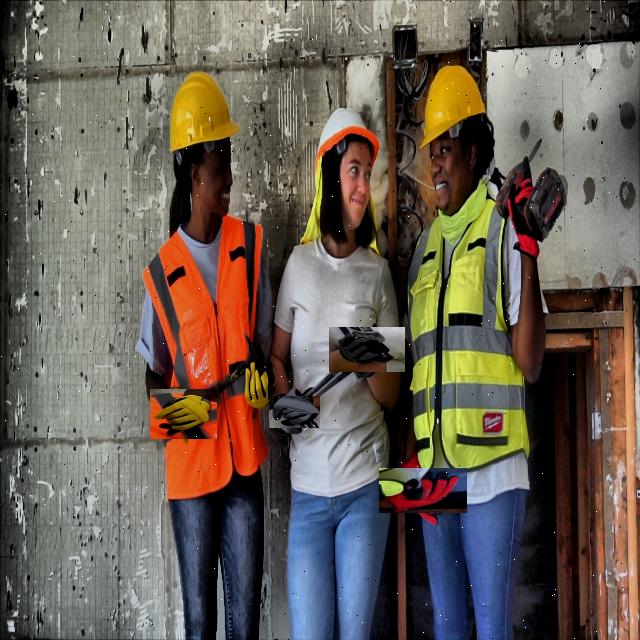gloved: (500, 179, 552, 265), (389, 457, 456, 523), (336, 319, 397, 380), (154, 384, 212, 444), (235, 343, 274, 418), (273, 391, 315, 433)
